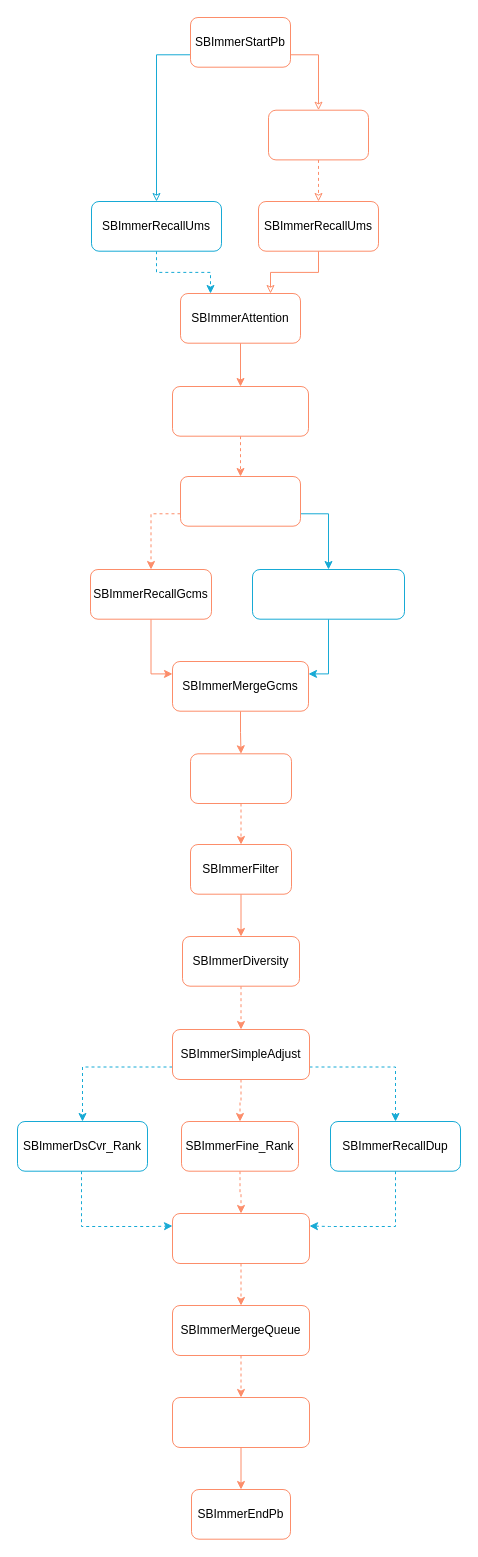
This 478x1557 diagram has some shape labels left out. The centre of each missing label's shape, as x and y in pixels:
ImmerseSonar: point 241,778
QueryUserType: point 318,134
SBImmerBeforeGcms: point 240,411
SBImmerIntervention: point 241,1422
SBImmerMsgRecallGcms: point 328,593
SBImmerMultiAdjust: point 241,1238
SBImmerRecallUrs: point 240,501
